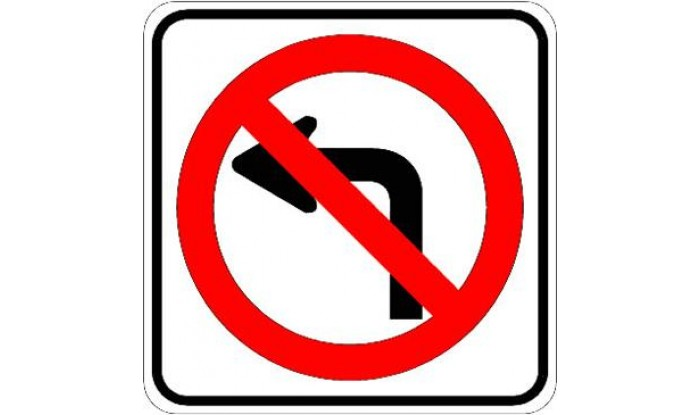No_left_turn: (176, 33, 526, 380)
